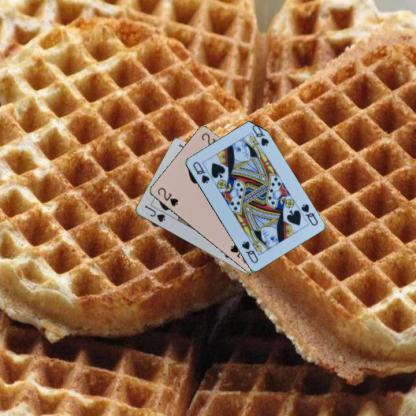2s: (155, 185, 179, 207)
Js: (142, 202, 166, 224)
Qs: (298, 201, 319, 227), (190, 159, 210, 185)
